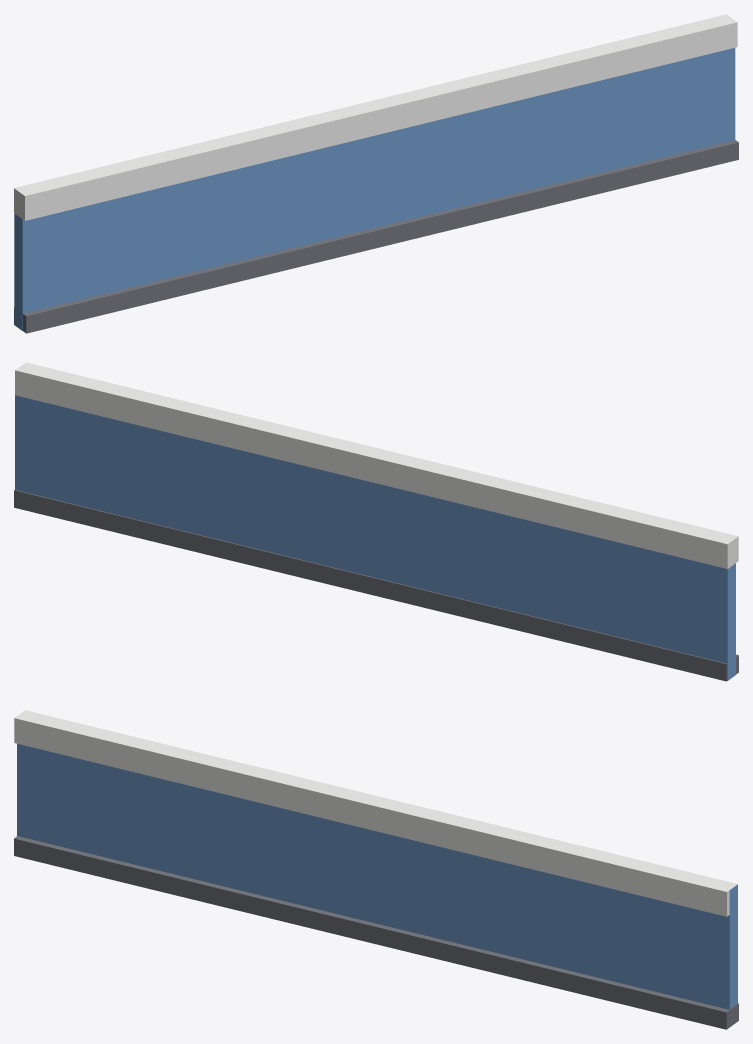
File: martial-arts-dojo-and-fight-stages-apron-skirt-30ae3ba4__18036.glb
The picture shows the model from 3 angles, top to bottom: view 1: azimuth 30°, elevation 25°; view 2: azimuth 150°, elevation 25°; view 3: azimuth 330°, elevation 25°; orthographic projection.
Parts seen in each view (by area): view 1: apron-skirt; view 2: apron-skirt; view 3: apron-skirt.
Part boxes in pixels (x1,y1,x2,y2): apron-skirt: (14,14,738,333); apron-skirt: (14,362,738,681); apron-skirt: (14,710,738,1029).
Bounding box in the file's own units: 3 × 0.5512 × 0.0901.
